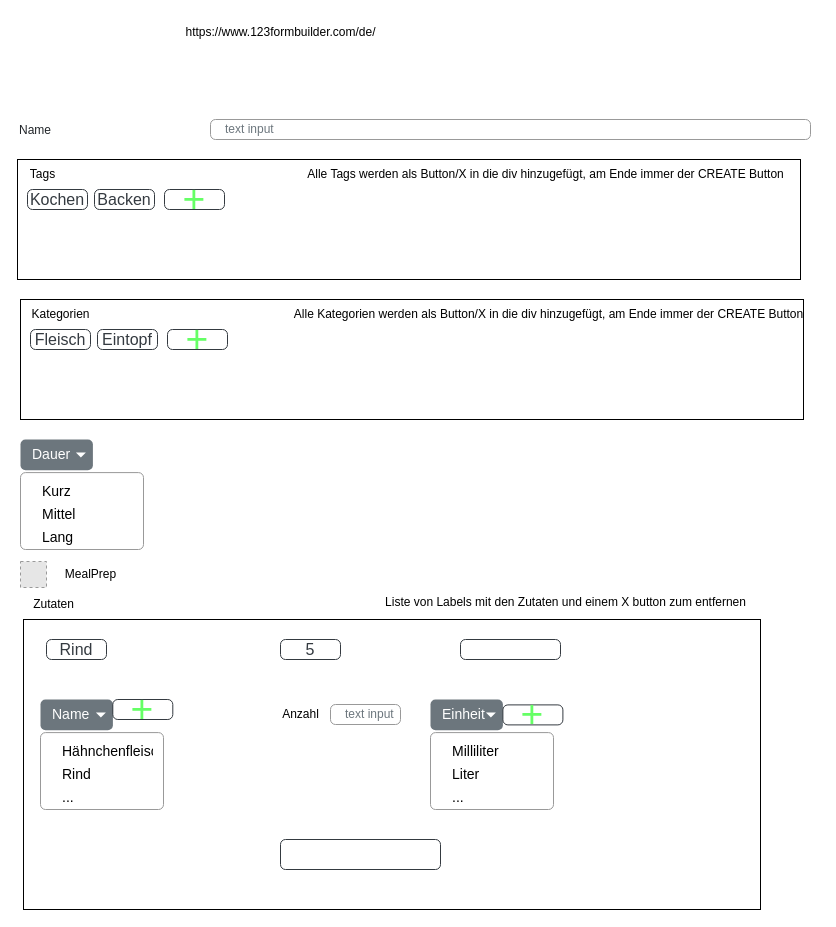
Some shapes in this 836 by 927 pixel diagram are drawn without their labels. Grey dashed boxes stand in for pictures. Here are the shapes that lost their labels. From the top down, the centre of each, then its label:
[510,649]: Kilogramm
[360,854]: Hinzufügen
